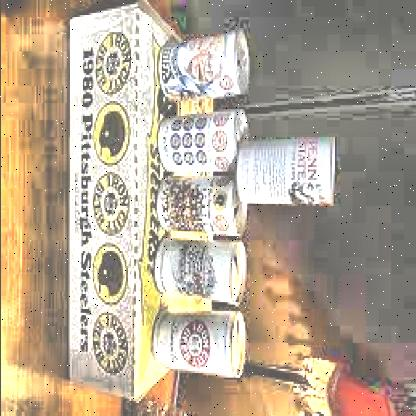Can: (233, 137, 340, 207), (151, 308, 249, 380), (152, 235, 249, 307), (156, 30, 250, 104), (154, 175, 252, 239), (156, 110, 250, 174)
